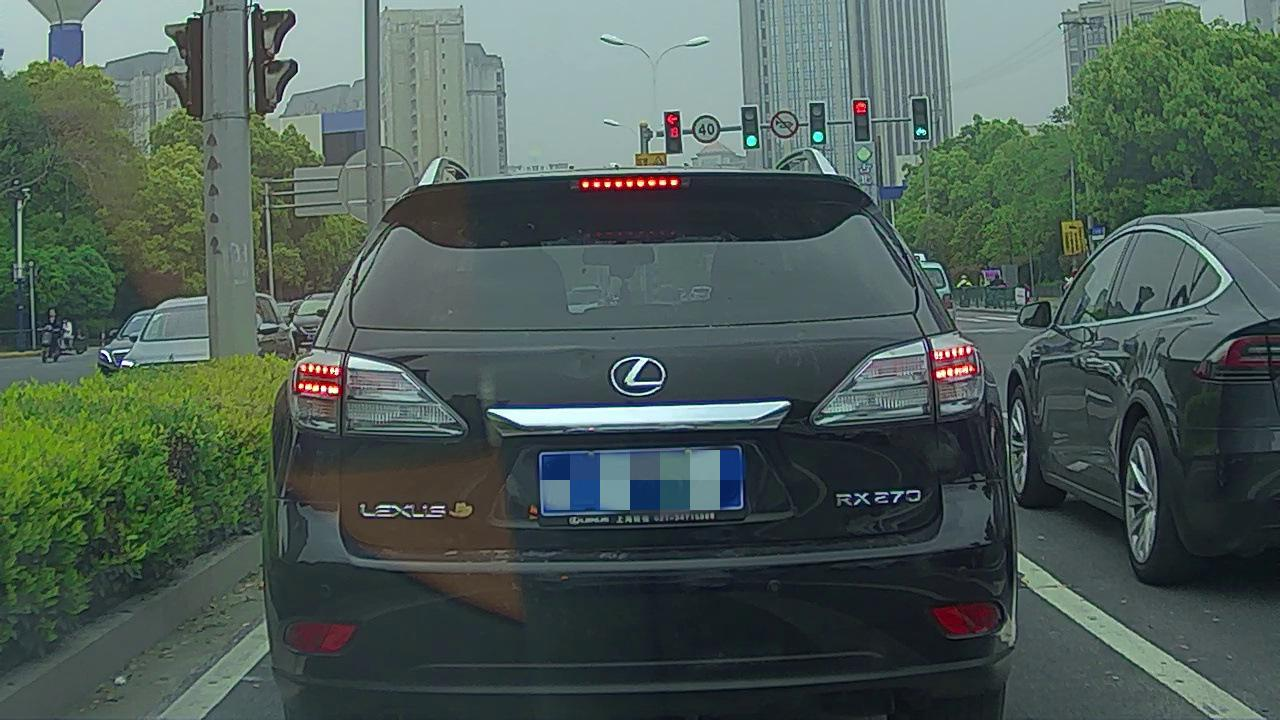traffic_light: (663, 112, 682, 153), (853, 98, 870, 141), (913, 97, 930, 140), (809, 104, 827, 144), (742, 107, 759, 149)
